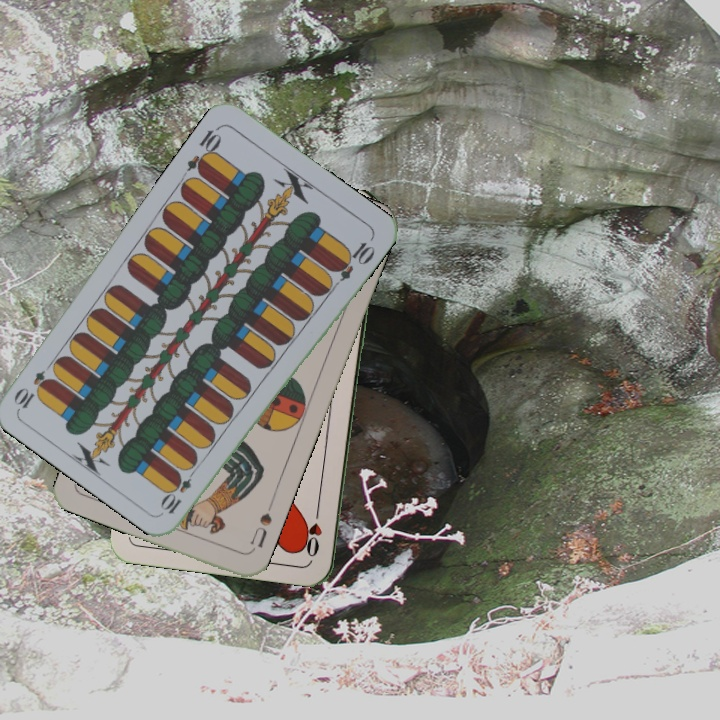E10: (183, 122, 225, 178), (158, 462, 200, 517)
HO: (302, 502, 325, 560)
SU: (246, 498, 276, 555)
